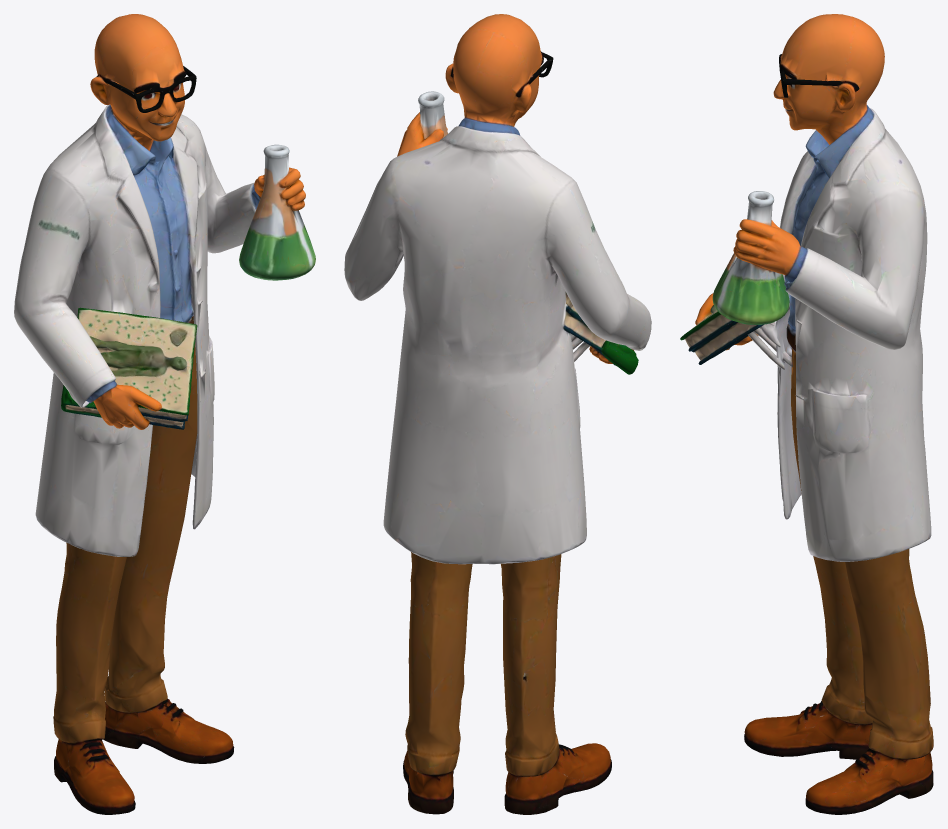
The model's file is cientista_SUBSTITUIDO_2026-11-07.glb.
The picture shows the model from 3 angles, left to right: view 1: azimuth 30°, elevation 25°; view 2: azimuth 150°, elevation 25°; view 3: azimuth 270°, elevation 25°; orthographic projection.
Visible parts, largest first — view 1: geometry_0; view 2: geometry_0; view 3: geometry_0.
Part boxes in pixels (x1,y1,x2,y2): geometry_0: [14, 14, 315, 814]; geometry_0: [344, 14, 651, 814]; geometry_0: [680, 14, 933, 814].
Bounding box in the file's own units: 0.6701 × 1.9 × 0.5773.
Materials: 1 (1 with a texture image).
